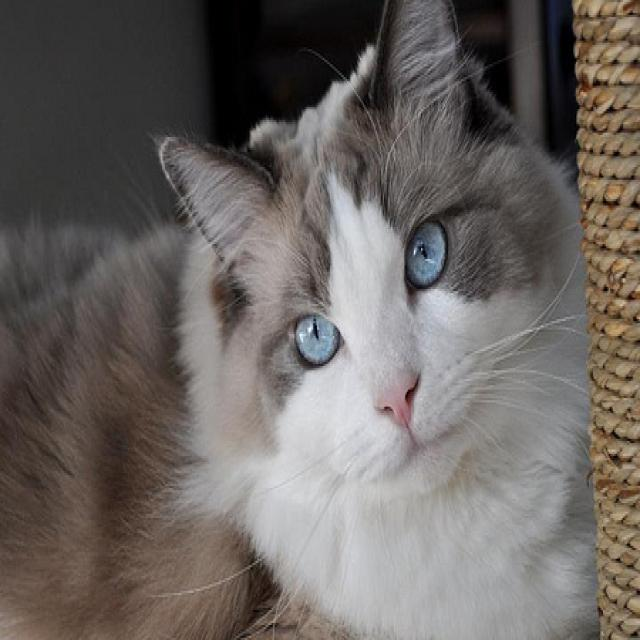Ragdoll: (0, 0, 596, 640)
